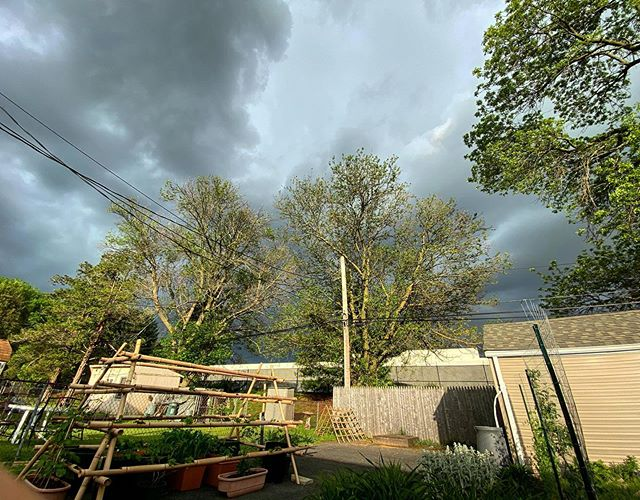building: (479, 315, 640, 487)
sky: (1, 1, 539, 261)
tree: (481, 3, 640, 318), (285, 153, 479, 377), (139, 173, 291, 358), (1, 250, 155, 380)
